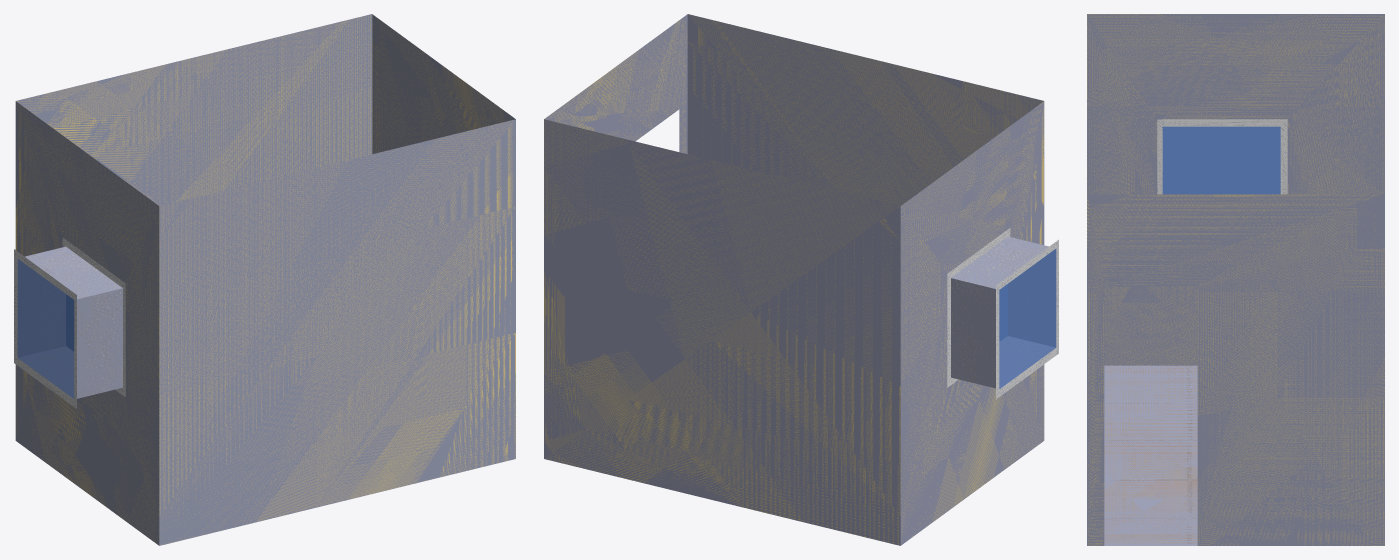
Rendered from DES021.obj.
3 renders of one model, left to right at view 1: azimuth 30°, elevation 25°; view 2: azimuth 150°, elevation 25°; view 3: azimuth 270°, elevation 25°, orthographic. The views are drawn at different scales.
Visible parts, largest first — view 1: Mesh5 DES021 Model, Mesh1 Group1 DES021 Model; view 2: Mesh5 DES021 Model, Mesh1 Group1 DES021 Model; view 3: Mesh5 DES021 Model, Mesh1 Group1 DES021 Model.
Boxes of the visible parts, x1,y1,x2,y2 form: Mesh5 DES021 Model: [15, 14, 515, 545]; Mesh1 Group1 DES021 Model: [14, 237, 125, 408]; Mesh5 DES021 Model: [544, 14, 1044, 545]; Mesh1 Group1 DES021 Model: [947, 228, 1058, 399]; Mesh5 DES021 Model: [1087, 14, 1384, 545]; Mesh1 Group1 DES021 Model: [1157, 119, 1287, 194].
Size of the model in its own units: 3.75 by 3 by 2.3.
6 materials, 2 textured.
